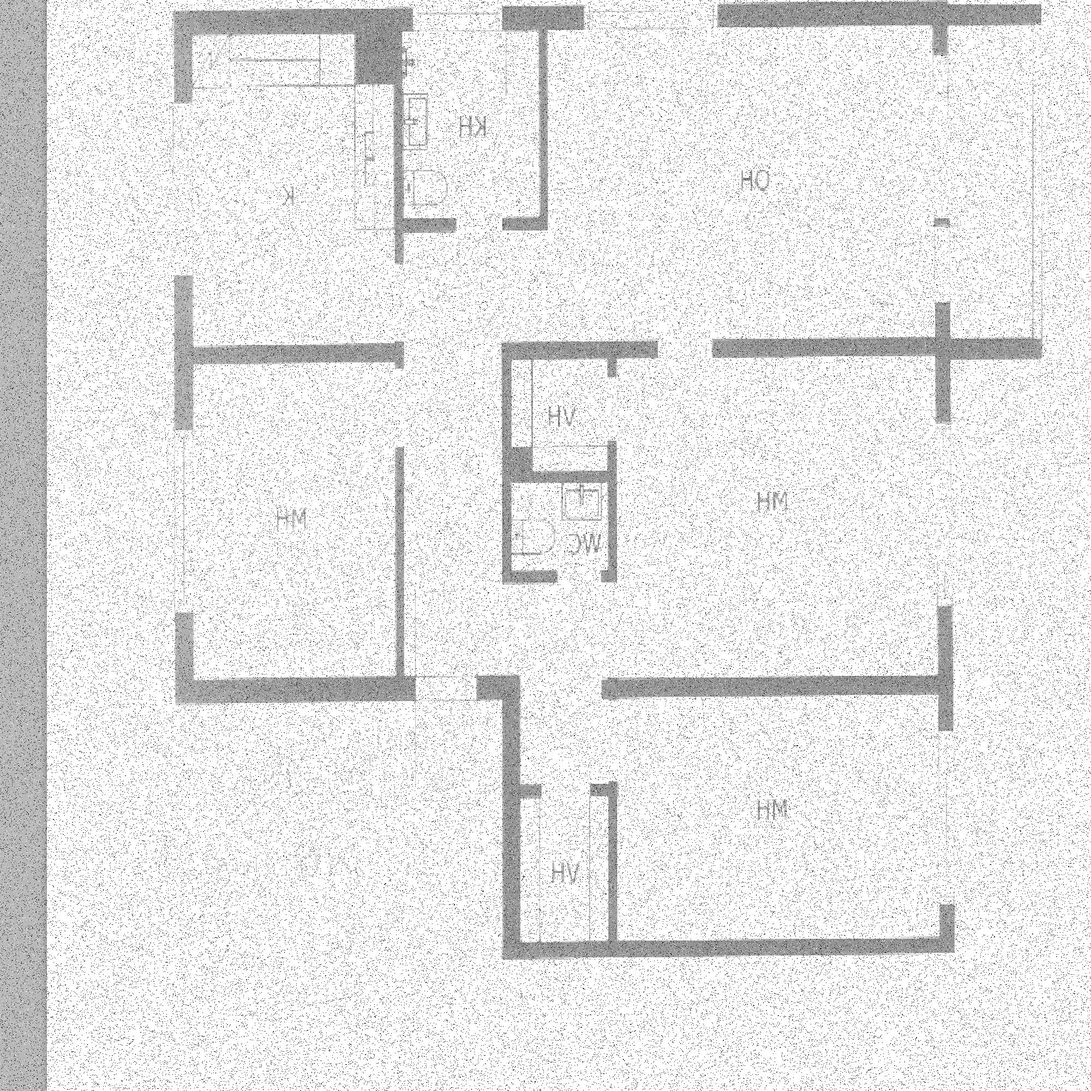wall: (174, 5, 952, 30), (935, 5, 952, 959), (174, 5, 194, 700), (504, 937, 952, 958), (502, 341, 935, 360), (174, 678, 520, 700), (601, 678, 935, 700), (504, 678, 520, 959), (194, 341, 403, 360), (608, 360, 618, 678), (394, 30, 403, 360), (394, 360, 403, 678), (502, 341, 511, 583), (403, 218, 547, 231), (952, 341, 1043, 360), (952, 5, 1043, 24), (539, 30, 547, 230), (608, 784, 618, 938), (520, 784, 618, 798), (502, 571, 608, 583), (511, 471, 608, 483), (608, 700, 618, 784)
